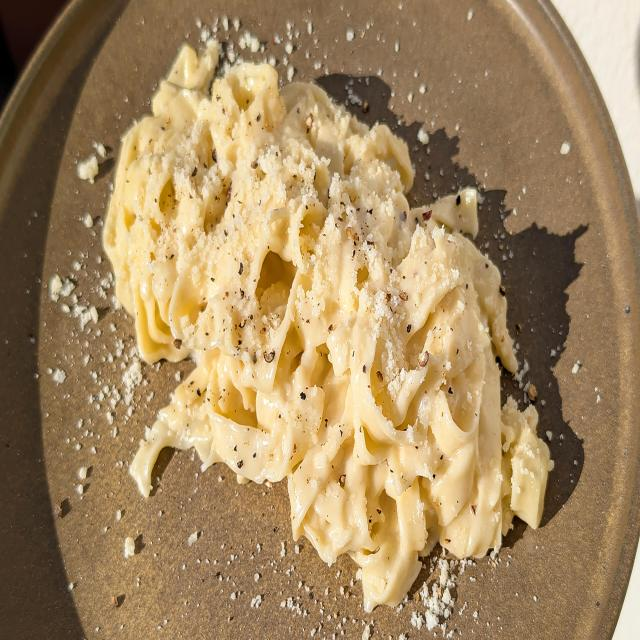pasta: (84, 36, 577, 616)
